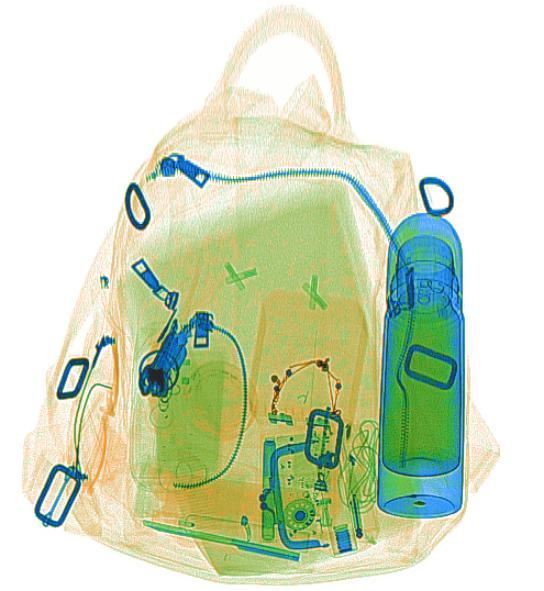battery: (260, 439, 278, 542)
